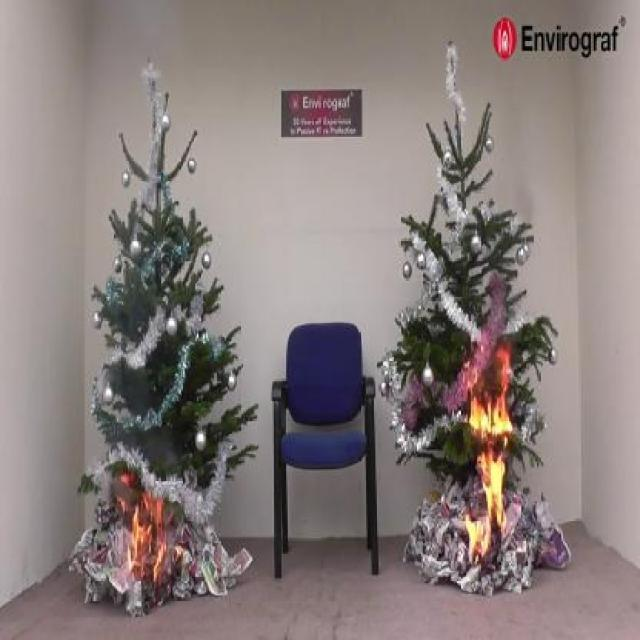fire: (450, 370, 524, 566), (114, 468, 176, 582)
